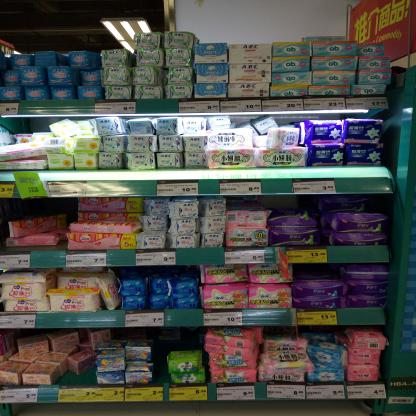Void: (1, 199, 72, 215), (121, 267, 194, 280), (152, 330, 168, 381), (275, 193, 318, 210), (294, 264, 343, 278), (230, 196, 266, 210), (171, 329, 198, 346), (120, 329, 150, 344), (63, 373, 95, 386), (369, 194, 388, 213), (16, 120, 46, 131), (265, 328, 290, 339), (276, 115, 296, 127)
